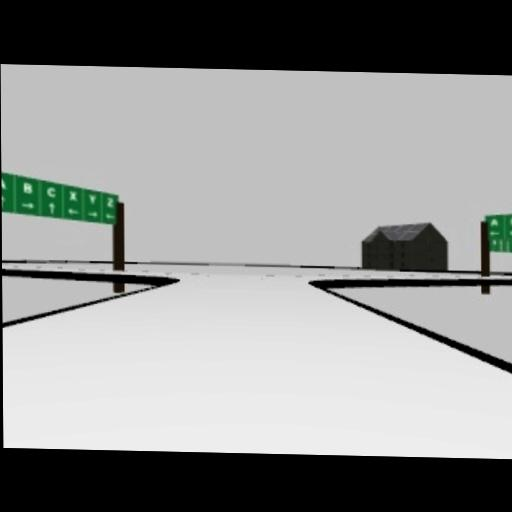A: (490, 216, 499, 228), (1, 176, 7, 191)
B: (22, 183, 34, 194), (509, 215, 512, 226)
C: (46, 186, 57, 198)
Left: (68, 207, 80, 216), (106, 213, 116, 222)
Right: (20, 201, 35, 210), (88, 209, 97, 217)
Straight: (47, 202, 58, 215), (1, 192, 6, 207)
X: (68, 190, 76, 201)
Y: (87, 193, 98, 205)
Z: (106, 197, 115, 208)
